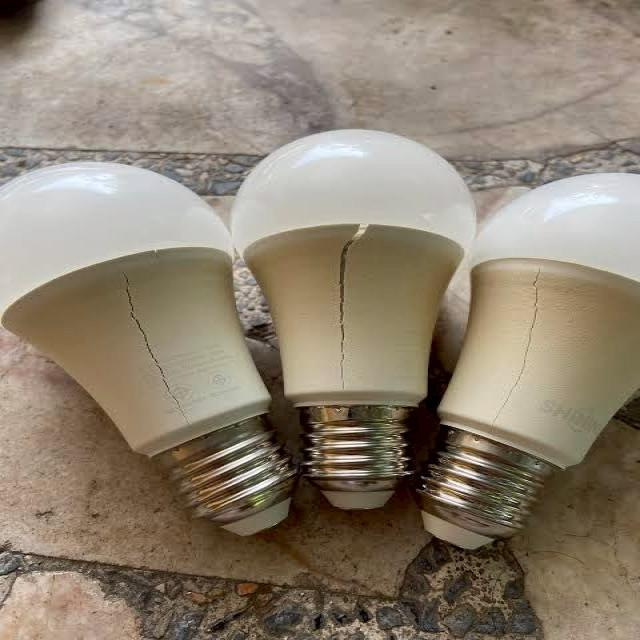bulb: (0, 160, 291, 543), (229, 132, 435, 499), (459, 167, 640, 529)
